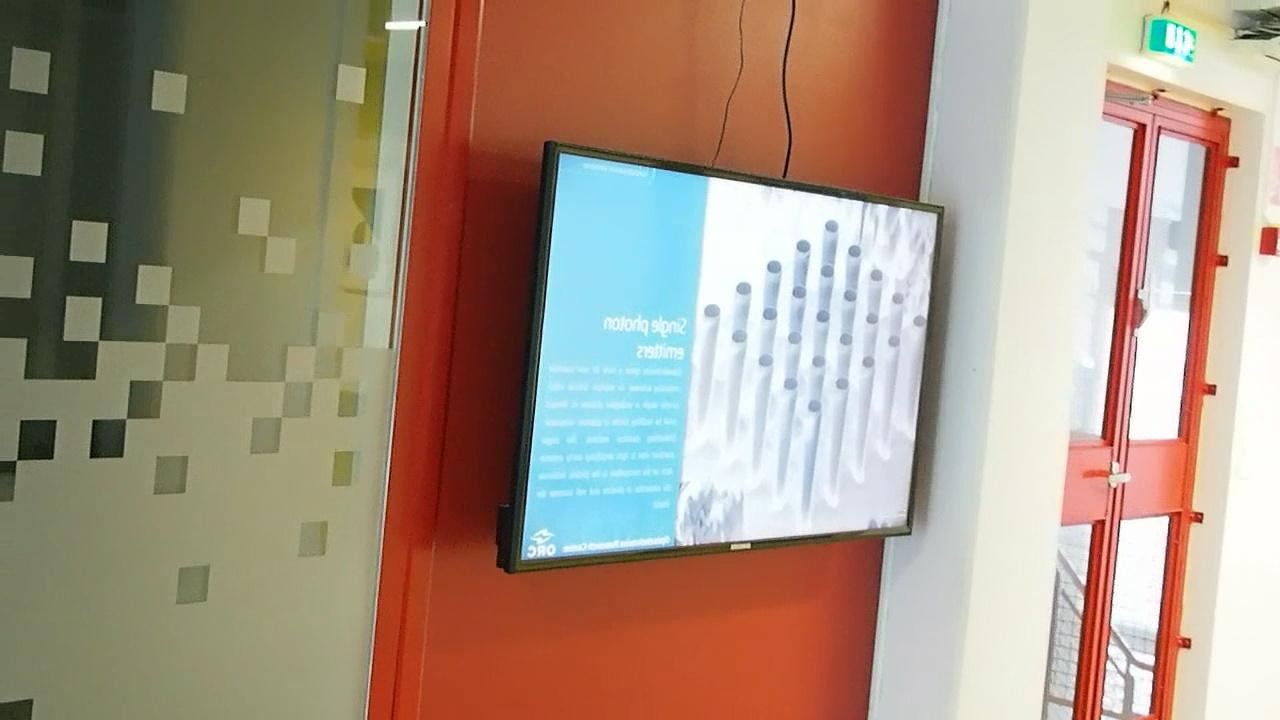screen: (502, 131, 955, 585)
